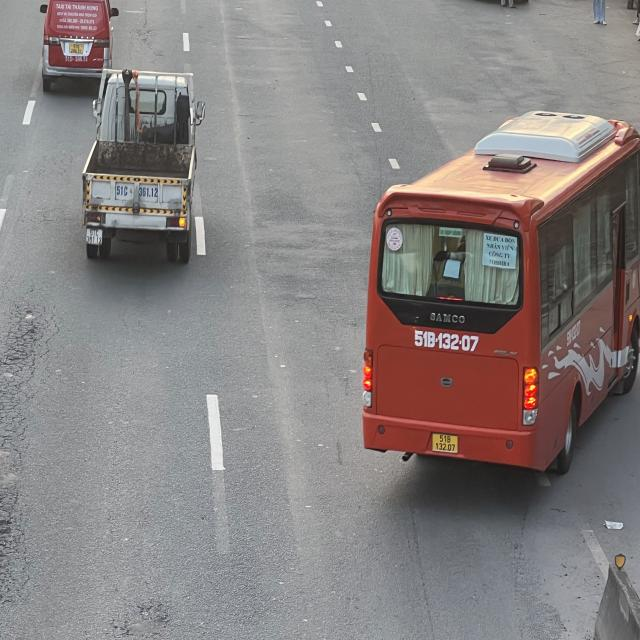coach: (370, 114, 640, 478)
truck: (85, 67, 207, 261)
van: (40, 0, 118, 91)
